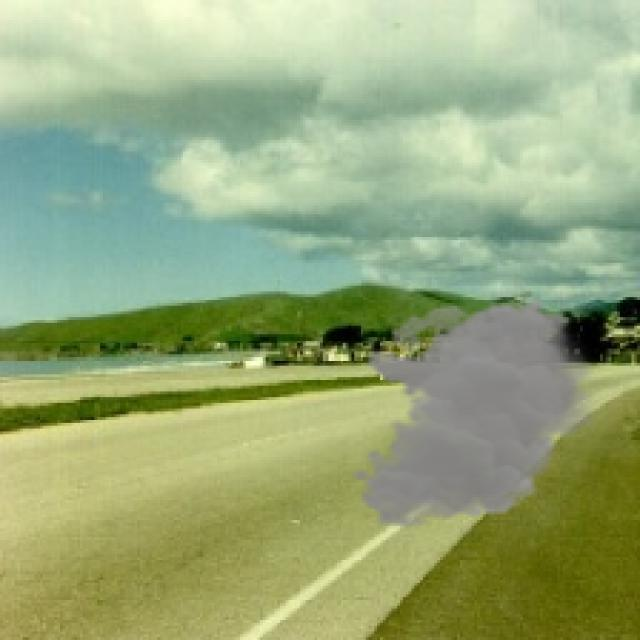Smoke: (351, 297, 606, 529)
